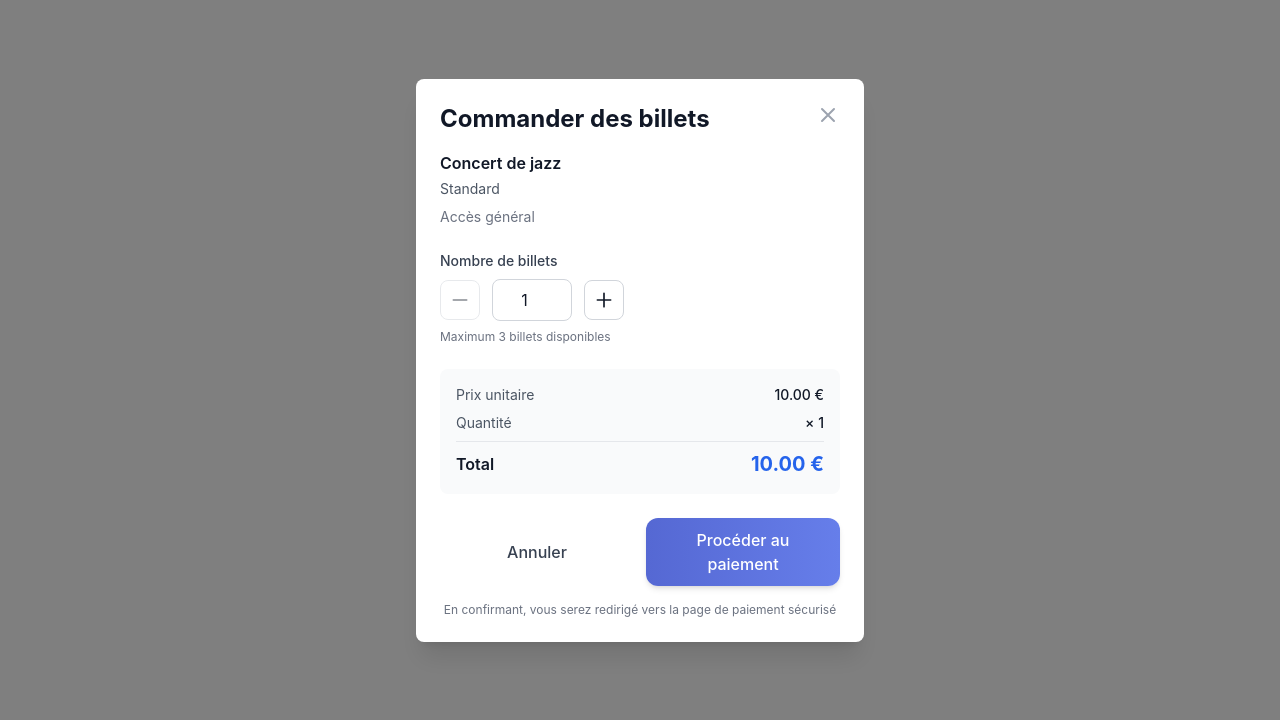
it: CheckoutModal › increments and decrements the quantity within stock limits
Expected: the number field named "Quantité de billets" holds "1", [492,278,572,320]
Expected: the button named "Diminuer la quantité" is disabled, [440,280,480,320]
Click the button named "Augmenter la quantité".
click(604, 300)  # box [584,280,624,320]
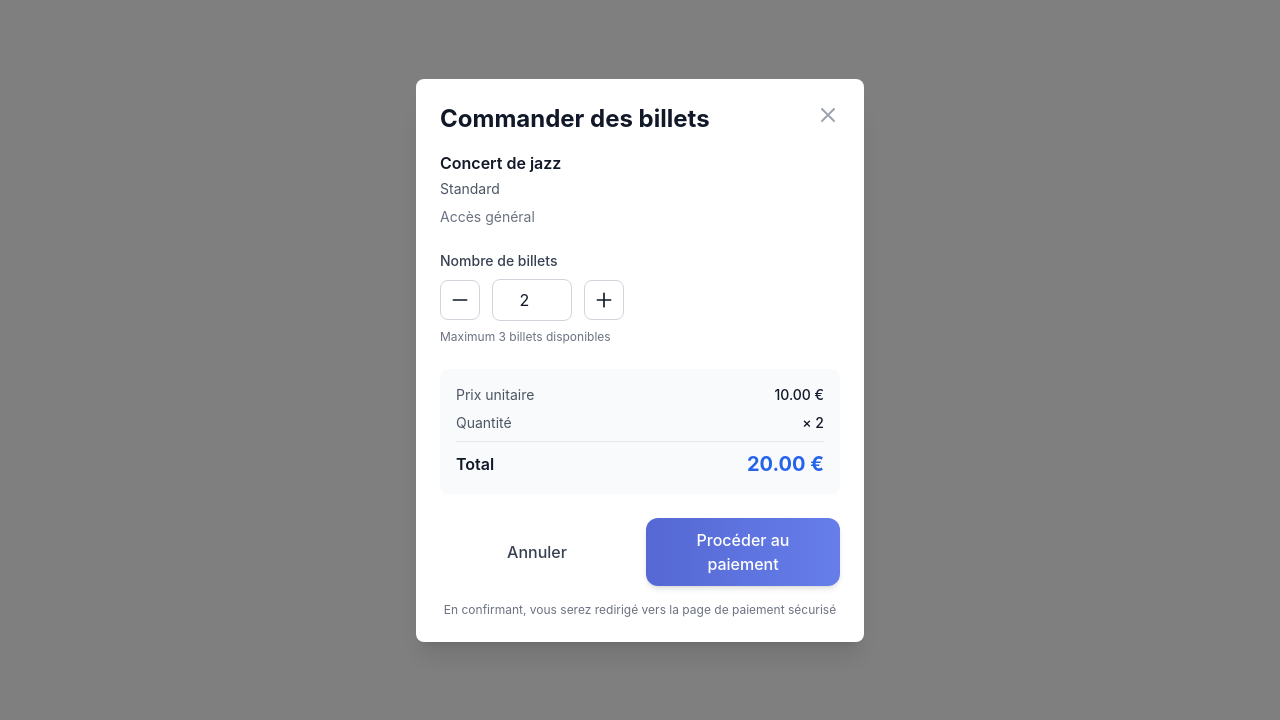
Click the button named "Augmenter la quantité".
click(604, 300)  # box [584,280,624,320]
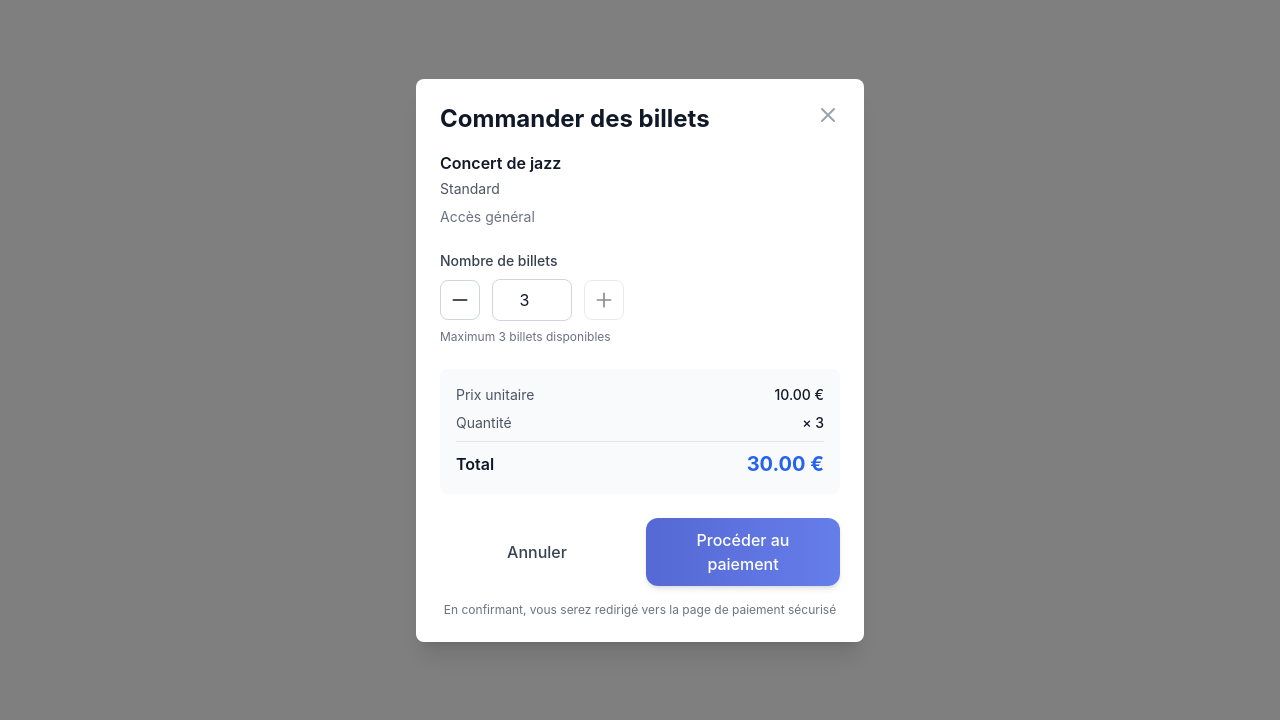
Expected: the number field named "Quantité de billets" holds "3", [492,278,572,320]
Expected: the button named "Augmenter la quantité" is disabled, [584,280,624,320]
Click the button named "Diminuer la quantité".
click(460, 300)  # box [440,280,480,320]
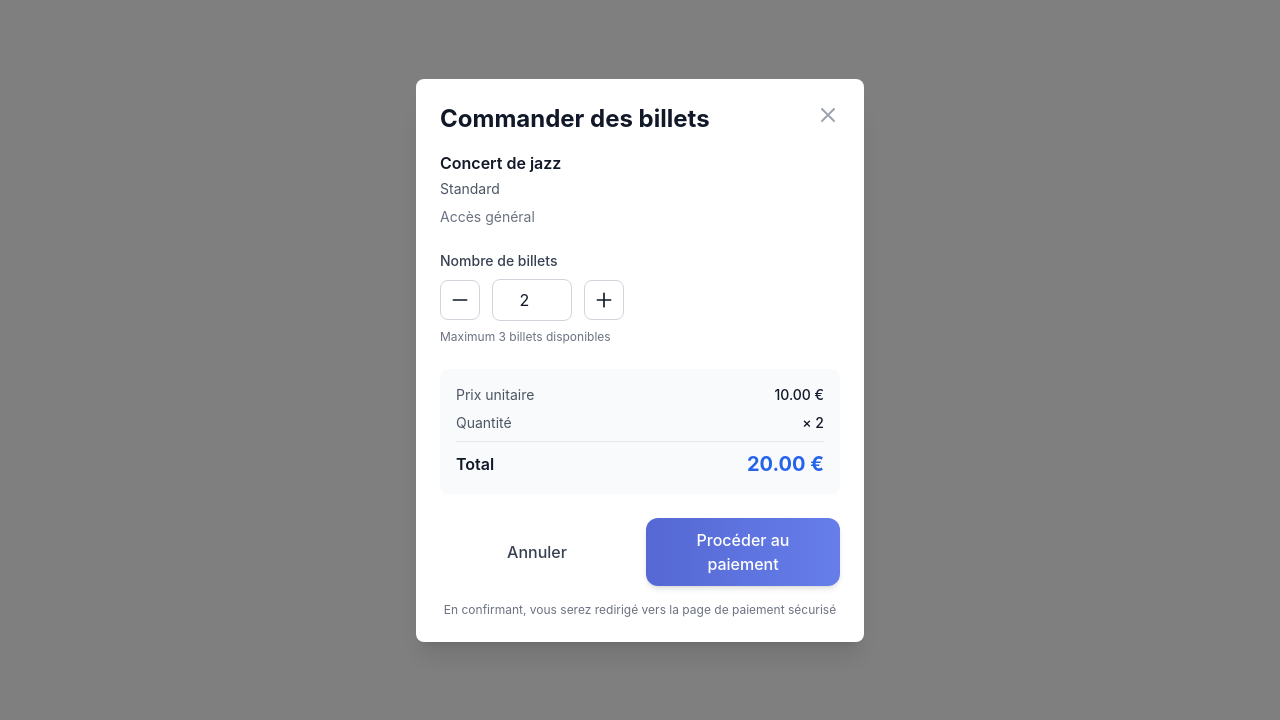
Expected: the number field named "Quantité de billets" holds "2", [492,278,572,320]
